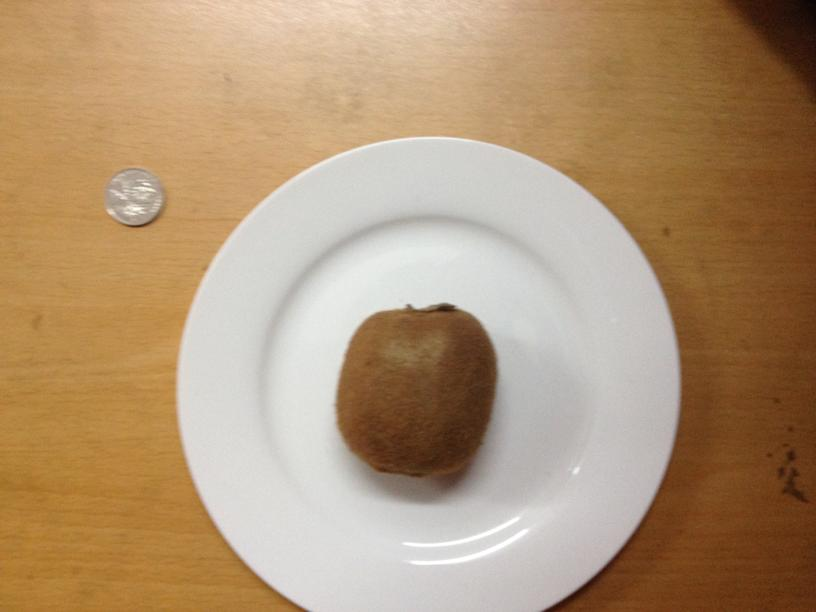coin: (103, 169, 167, 228)
qiwi: (337, 302, 496, 477)
